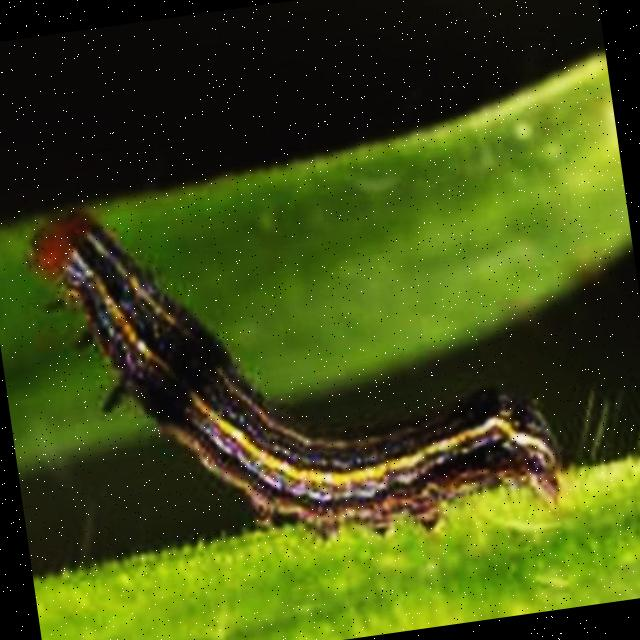worm: (21, 148, 572, 589)
